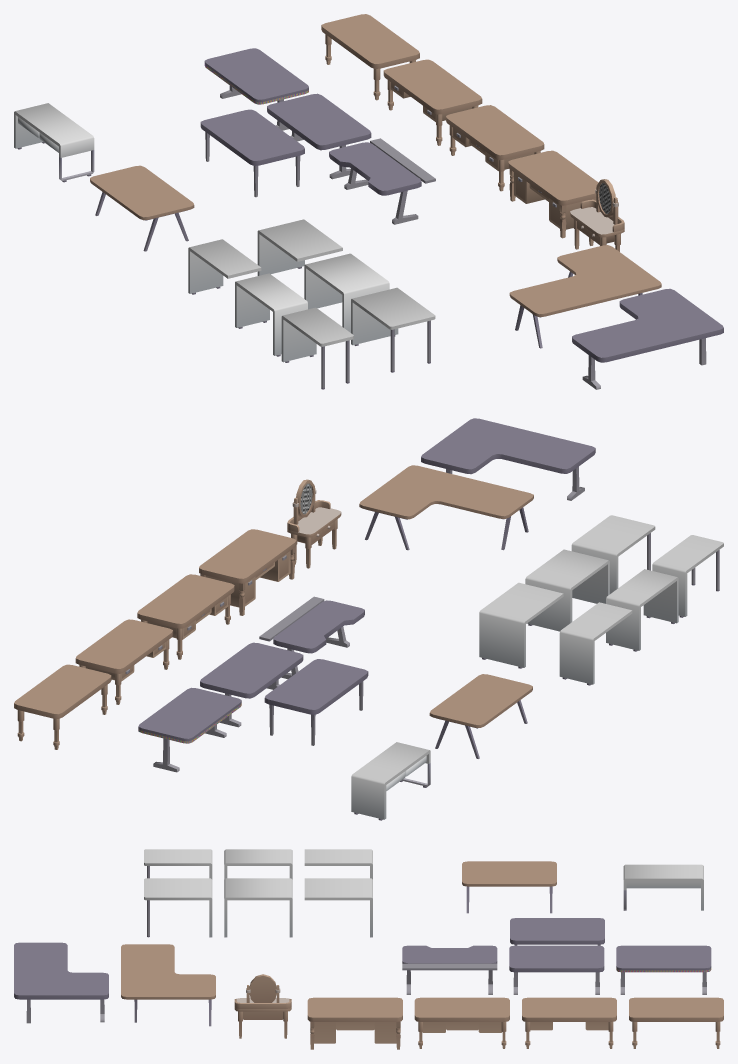
Rendered from desks.glb.
3 views of the same model, one above another, from view 1: azimuth 30°, elevation 25°; view 2: azimuth 150°, elevation 25°; view 3: azimuth 270°, elevation 25° (orthographic). The views are drawn at different scales.
Visible parts, largest first — view 1: desk-gamer-corner, desk-slanted-legs-corner, desk-classic-cabinets, desk-gamer-detailed, desk-classic-drawers-center, desk-gamer-legs, desk-classic-drawers, desk-gamer (%thumbnail), desk-gamer-rgb, desk-slanted-legs, desk-classic, desk-basic (+7 smaller); view 2: desk-gamer-corner, desk-slanted-legs-corner, desk-classic-cabinets, desk-basic, desk-basic-wall, desk-gamer-rgb, desk-classic-drawers-center, desk-gamer-legs, desk-classic-drawers, desk-gamer (%thumbnail), desk-gamer-detailed, desk-slanted-legs (+7 smaller); view 3: desk-gamer-corner, desk-slanted-legs-corner, desk-classic-cabinets, desk-classic-drawers-center, desk-classic-drawers, desk-gamer (%thumbnail), desk-gamer-rgb, desk-slanted-legs, desk-classic, desk-gamer-detailed, desk-gamer-legs, desk-drawers (+7 smaller).
Part boxes in pixels (box(x1,y1,x2,y2)): desk-gamer-corner: box(572, 288, 723, 389); desk-slanted-legs-corner: box(509, 245, 661, 348); desk-classic-cabinets: box(508, 150, 598, 238); desk-gamer-detailed: box(329, 138, 435, 224); desk-classic-drawers-center: box(446, 105, 544, 191); desk-gamer-legs: box(200, 109, 304, 197); desk-classic-drawers: box(383, 59, 482, 145); desk-gamer (%thumbnail): box(267, 93, 371, 179); desk-gamer-rgb: box(204, 48, 308, 130); desk-slanted-legs: box(90, 165, 194, 251); desk-classic: box(321, 14, 419, 100); desk-basic: box(304, 253, 389, 332); desk-gamer-corner: box(421, 418, 595, 500); desk-slanted-legs-corner: box(359, 465, 533, 550); desk-classic-cabinets: box(199, 529, 296, 615); desk-basic: box(525, 549, 609, 631); desk-basic-wall: box(479, 582, 563, 668); desk-gamer-rgb: box(138, 687, 241, 772); desk-classic-drawers-center: box(137, 574, 234, 659); desk-gamer-legs: box(264, 659, 368, 745); desk-classic-drawers: box(75, 619, 173, 704); desk-gamer (%thumbnail): box(200, 642, 303, 727); desk-gamer-detailed: box(259, 596, 364, 679); desk-slanted-legs: box(429, 674, 532, 758); desk-gamer-corner: box(14, 942, 108, 1023); desk-slanted-legs-corner: box(121, 944, 215, 1026); desk-classic-cabinets: box(307, 997, 402, 1049); desk-classic-drawers-center: box(414, 997, 509, 1048); desk-classic-drawers: box(522, 997, 616, 1048); desk-gamer (%thumbnail): box(509, 945, 604, 994); desk-gamer-rgb: box(616, 945, 711, 994); desk-slanted-legs: box(462, 861, 556, 913); desk-classic: box(629, 997, 723, 1048); desk-gamer-detailed: box(402, 945, 497, 994); desk-gamer-legs: box(510, 918, 604, 945); desk-drawers: box(623, 864, 703, 910).
Bounding box in the file's own units: 6.39 × 1.19 × 11.94.
3 materials, 2 textured.
